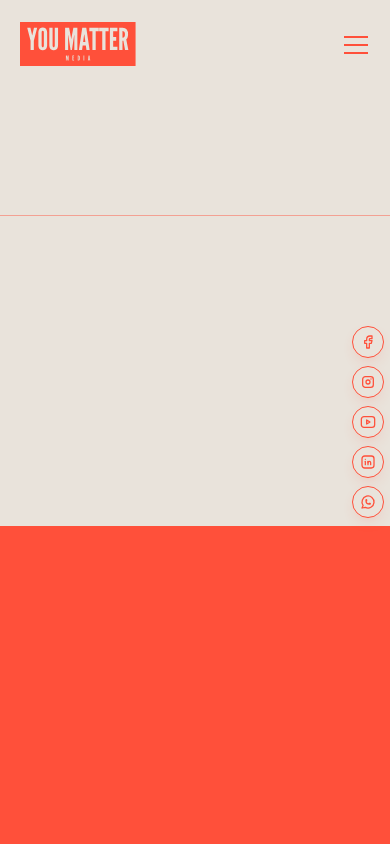
Test: mobile navigation › marks the current page in the menu
This screenshot has width=390, height=844.
Click the button named "open menu": [356, 44] box [334,22,378,66]
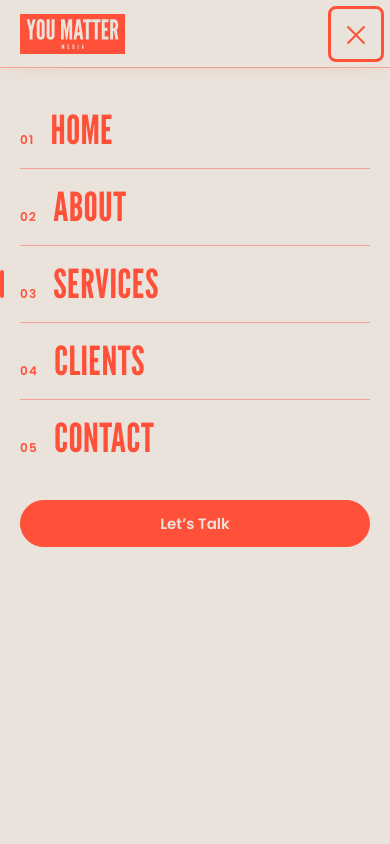
Expected: the link "03 Services" is shown, [20,259,159,307]
